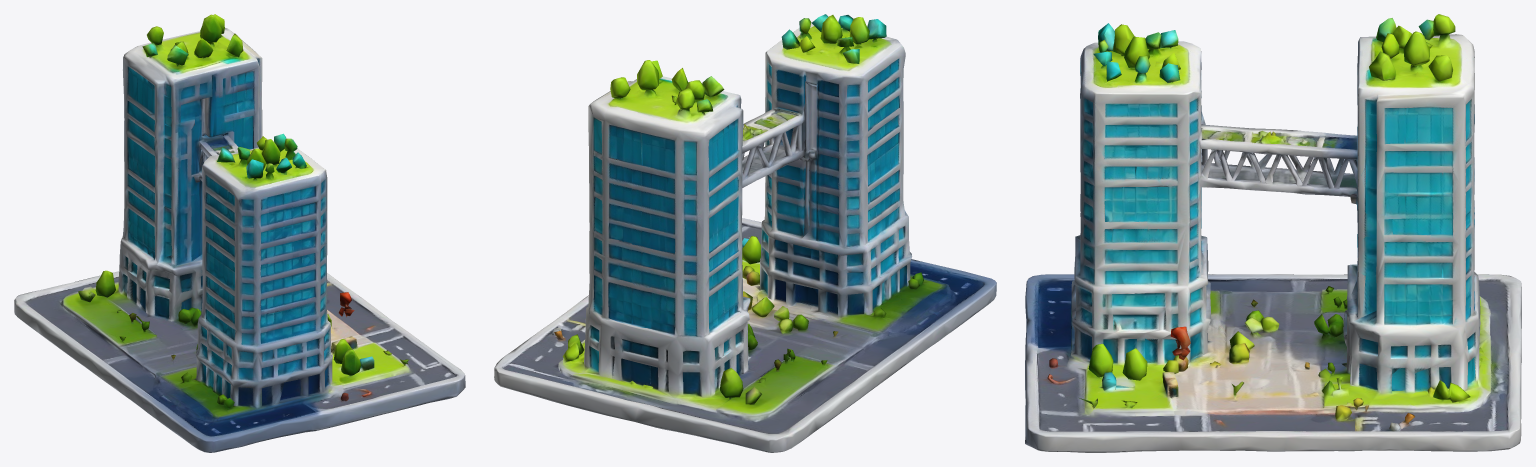
The model's file is keji.glb.
3 views of the same model, side by side, from view 1: azimuth 30°, elevation 25°; view 2: azimuth 150°, elevation 25°; view 3: azimuth 270°, elevation 25° (orthographic). The views are drawn at different scales.
Visible parts, largest first — view 1: tripo_node_551ae67a-7e20-4f5e-9bd5-7b9d12c3d3bf; view 2: tripo_node_551ae67a-7e20-4f5e-9bd5-7b9d12c3d3bf; view 3: tripo_node_551ae67a-7e20-4f5e-9bd5-7b9d12c3d3bf.
Boxes of the visible parts, x1=… form: tripo_node_551ae67a-7e20-4f5e-9bd5-7b9d12c3d3bf: x1=14, y1=14, x2=465, y2=452; tripo_node_551ae67a-7e20-4f5e-9bd5-7b9d12c3d3bf: x1=494, y1=14, x2=996, y2=452; tripo_node_551ae67a-7e20-4f5e-9bd5-7b9d12c3d3bf: x1=1025, y1=14, x2=1521, y2=452.
Bounding box in the file's own units: 0.7756 × 0.8005 × 1.
Materials: 1 (1 with a texture image).
